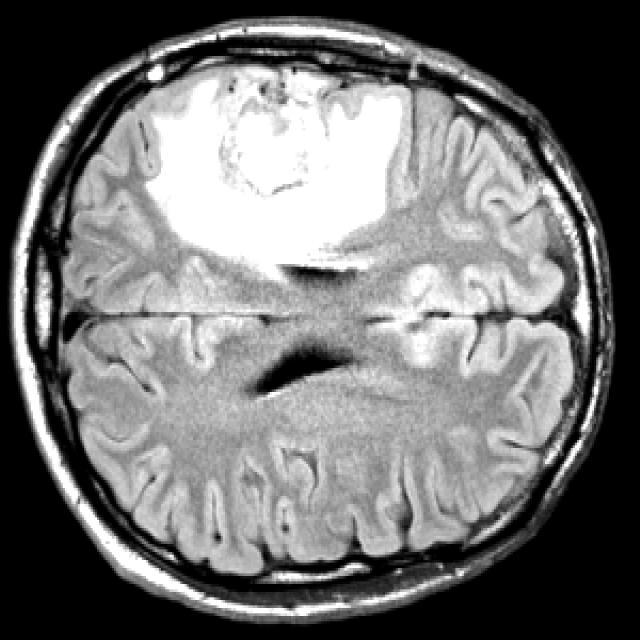tumor: (143, 69, 403, 271)
